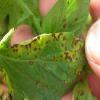Bell_pepper leaf spot: (3, 34, 86, 97)
